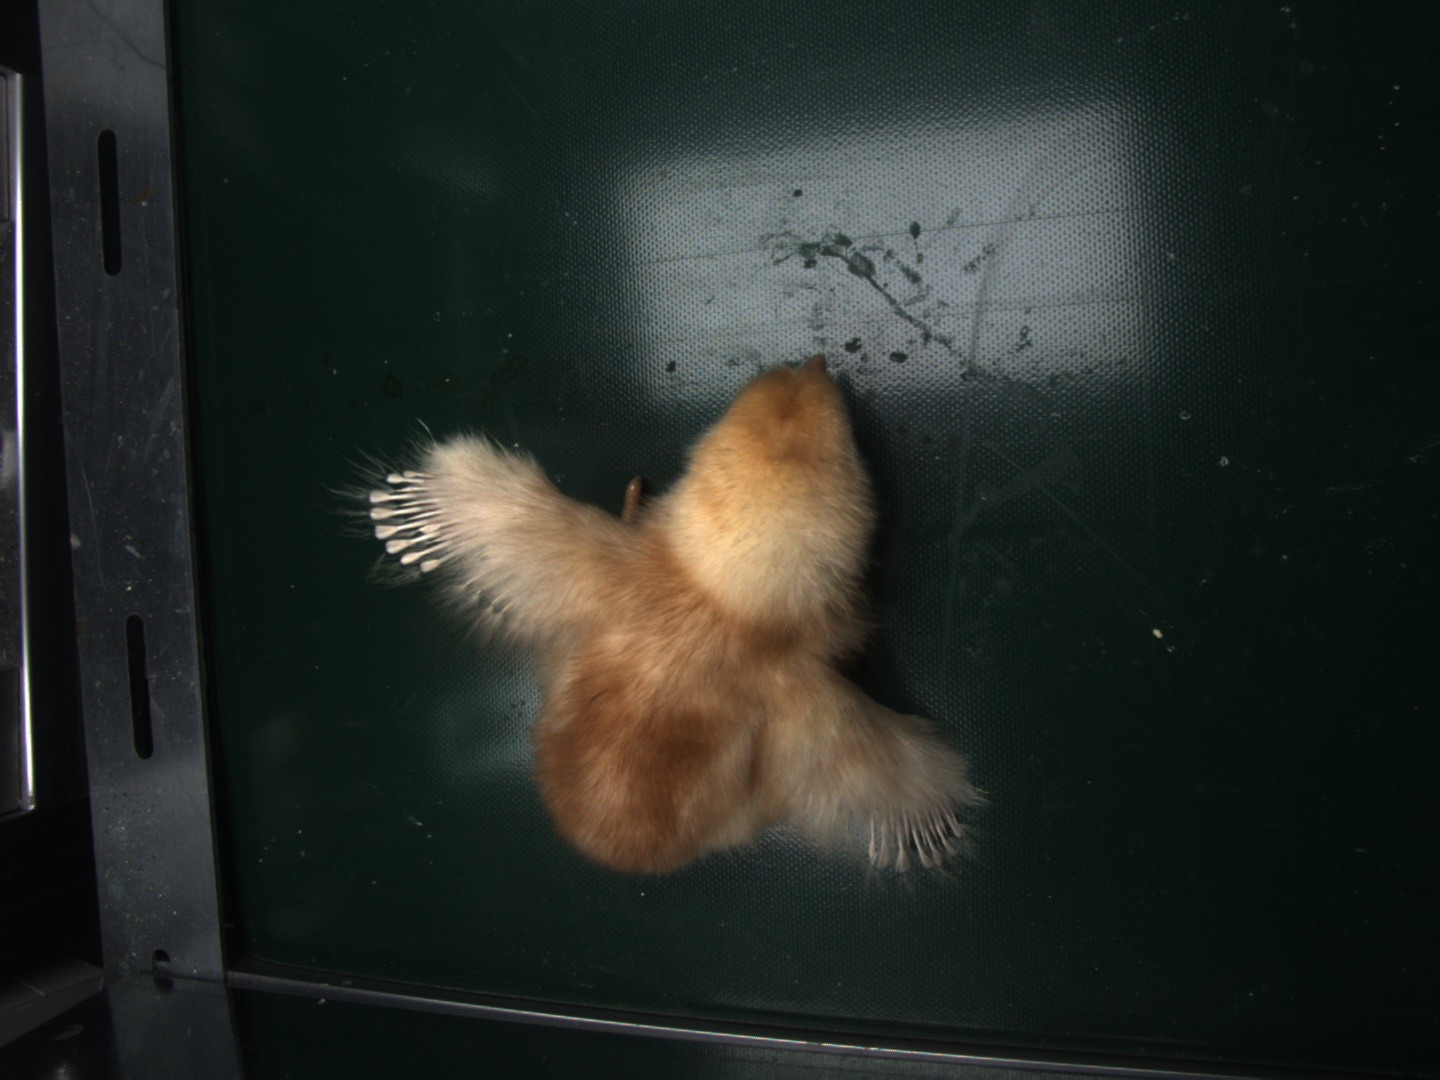female: (370, 472, 459, 573), (870, 793, 964, 869)
